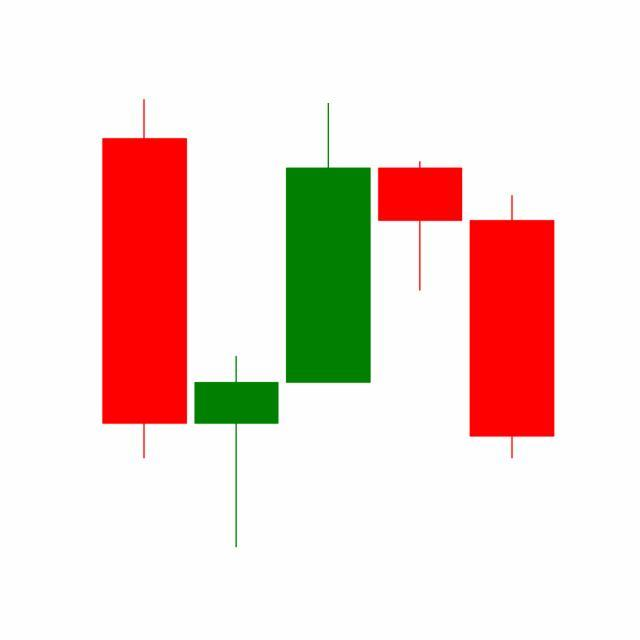Marubozu: (466, 193, 559, 463)
